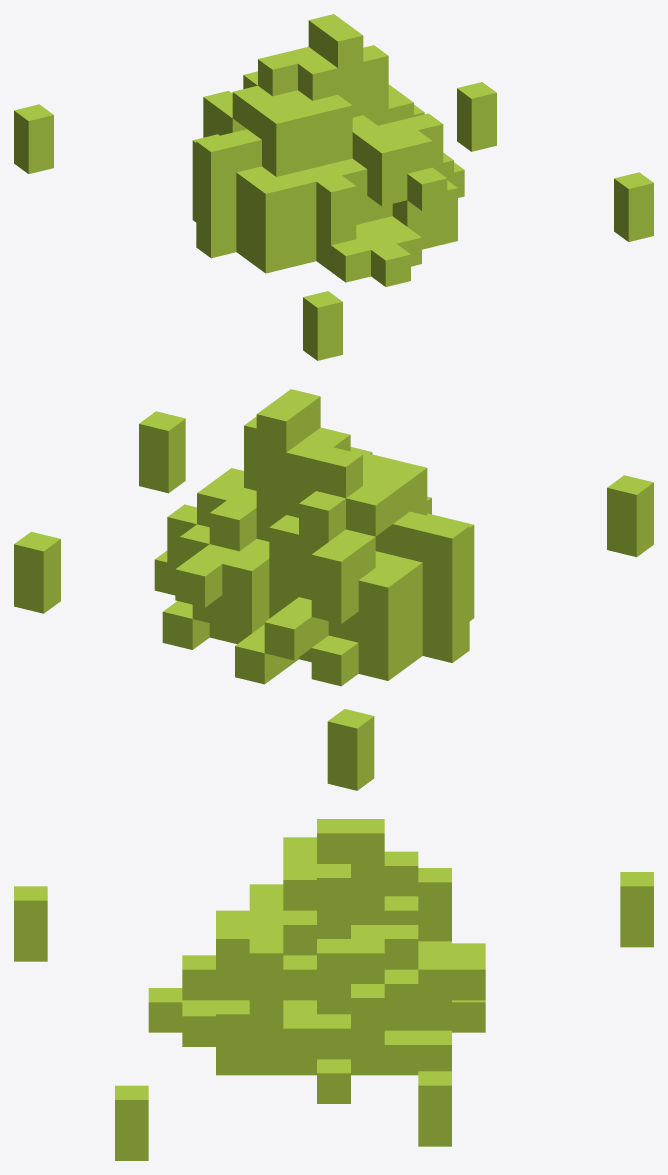
Rendered from rumput.obj.
3 views of the same model, one above another, from view 1: azimuth 30°, elevation 25°; view 2: azimuth 150°, elevation 25°; view 3: azimuth 270°, elevation 25° (orthographic). The views are drawn at different scales.
Bounding box in the file's own units: 16 × 7 × 19.
Materials: 1 (1 with a texture image).
